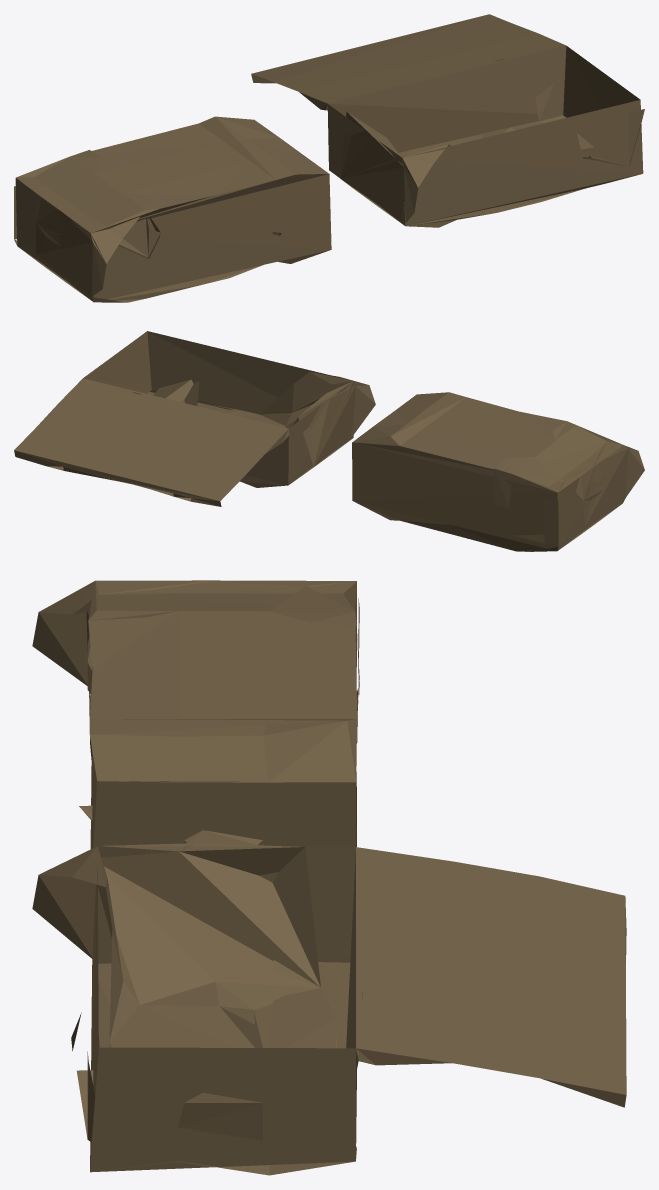
The model's file is supply-crates-lod1.glb.
3 renders of one model, top to bottom at view 1: azimuth 30°, elevation 25°; view 2: azimuth 150°, elevation 25°; view 3: azimuth 270°, elevation 25°, orthographic. The views are drawn at different scales.
Size of the model in its own units: 1.8 by 0.299 by 0.9561.
